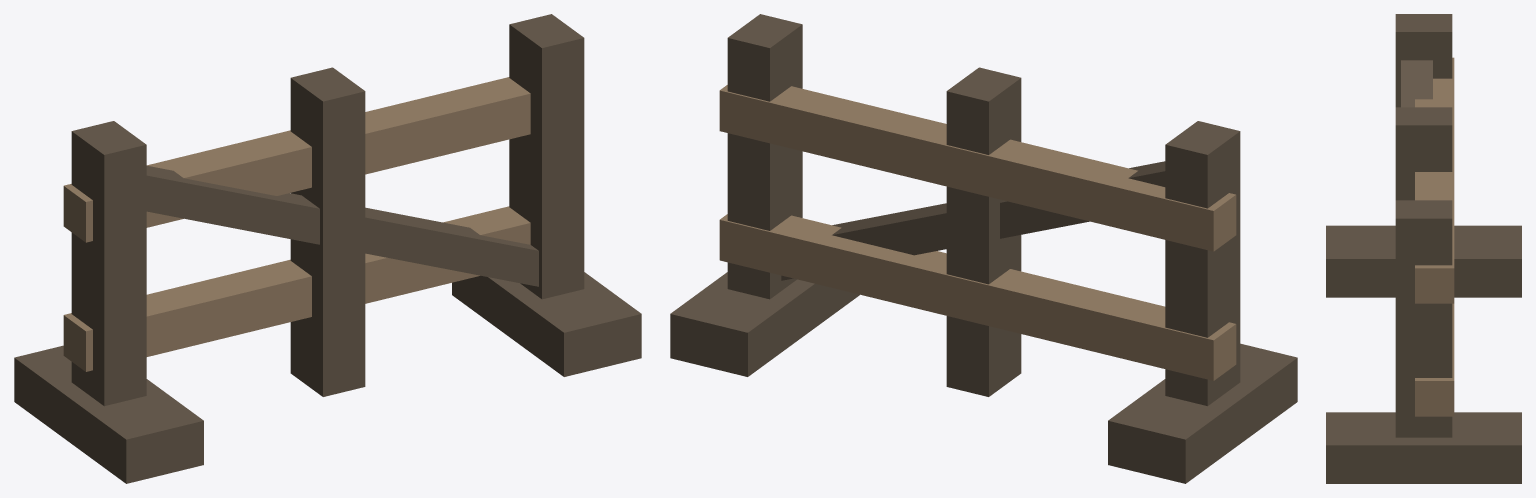
Rendered from Craft_Fence.fbx.
3 renders of one model, left to right at view 1: azimuth 30°, elevation 25°; view 2: azimuth 150°, elevation 25°; view 3: azimuth 270°, elevation 25°, orthographic. The views are drawn at different scales.
Parts seen in each view (by area): view 1: Craft_Fence; view 2: Craft_Fence; view 3: Craft_Fence.
Part boxes in pixels (x1,y1,x2,y2): Craft_Fence: [14, 14, 641, 483]; Craft_Fence: [670, 14, 1297, 483]; Craft_Fence: [1326, 14, 1521, 483].
Bounding box in the file's own units: 1.46 × 0.8 × 0.55.
